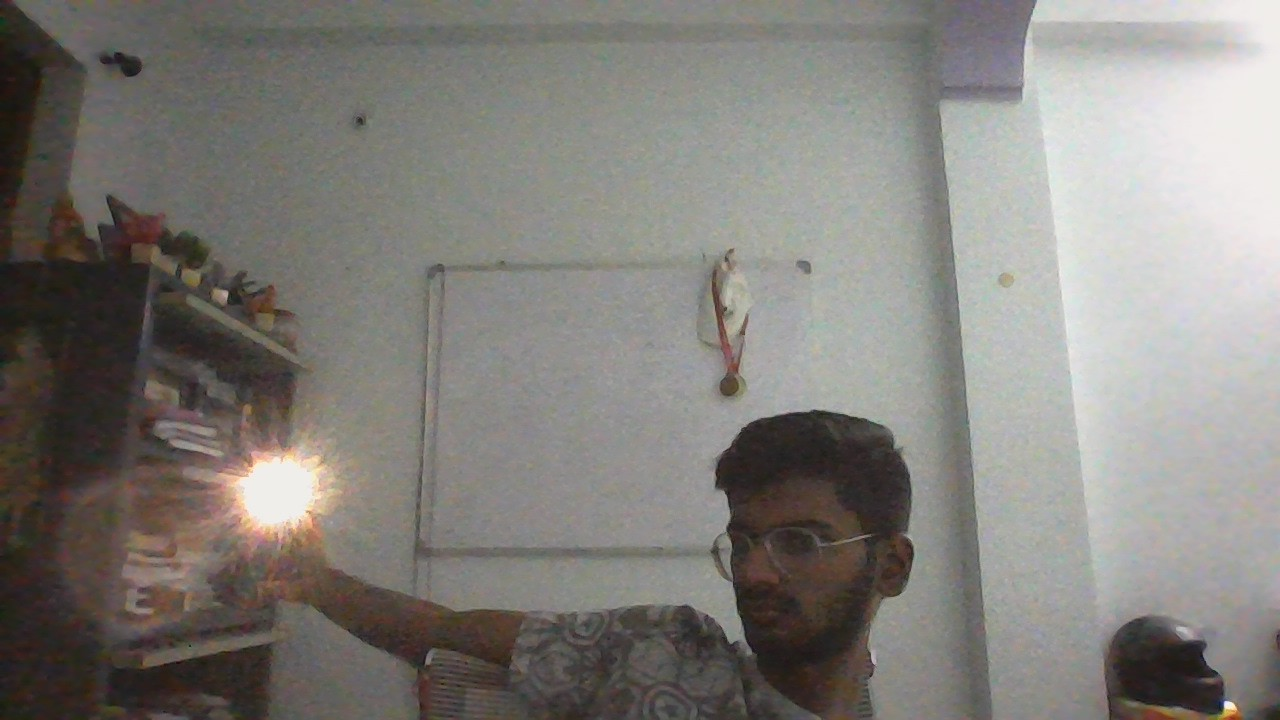Glare: (230, 449, 321, 536)
